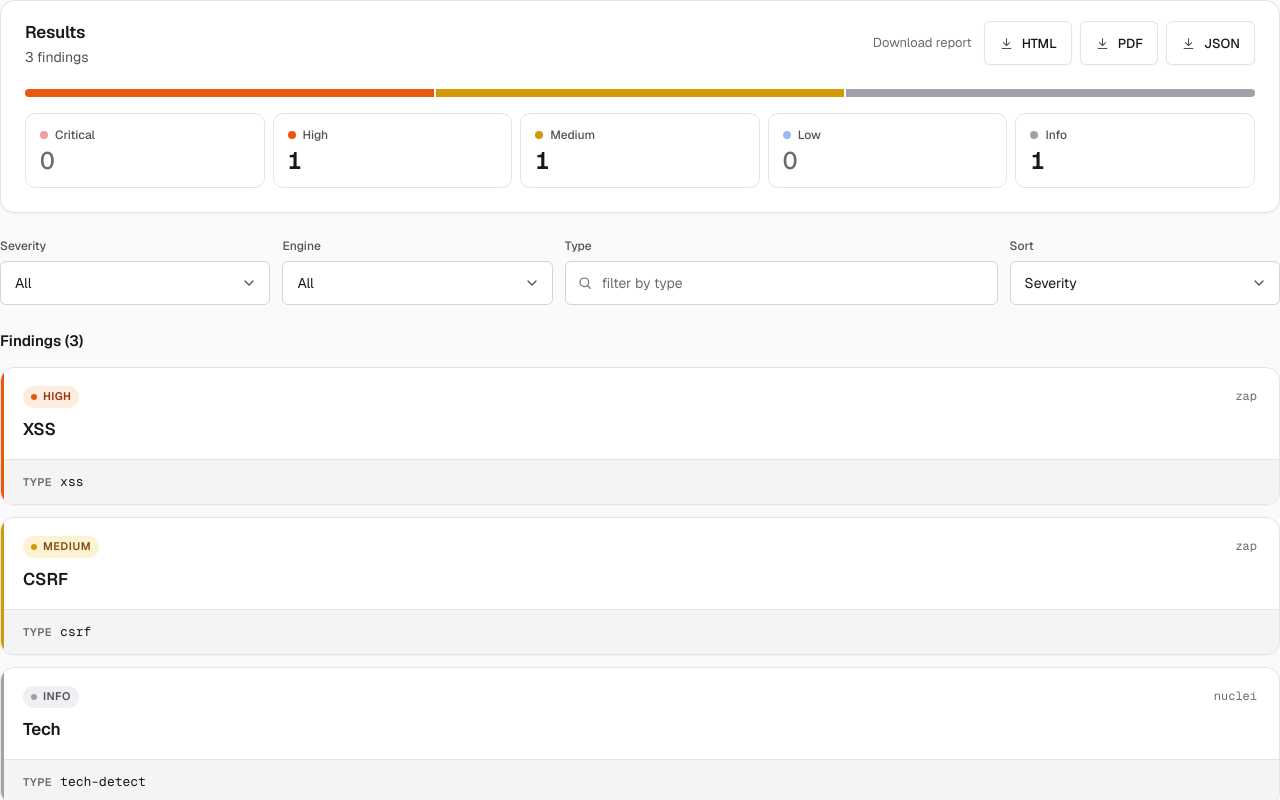
Test: ResultsDashboard › filters findings by severity
This screenshot has width=1280, height=800.
Expected: the heading "Findings (3)" is shown, [0,331,83,350]
Select "high" in the dropdown labelled "Severity" at (135, 283), box [0,261,270,305]
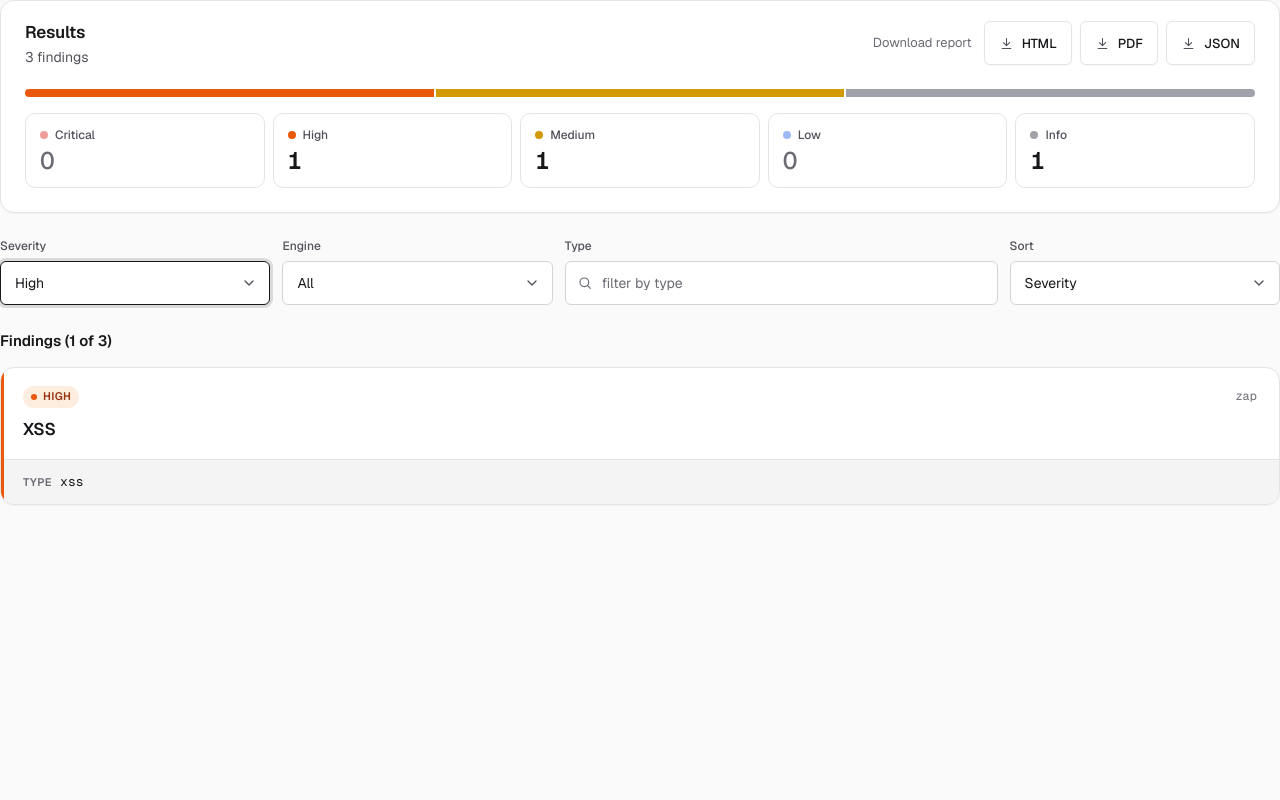
Expected: the heading "XSS" is shown, [23,418,56,440]
Now the heading "Findings (1 of 3)" is shown, box [0,331,112,350]
Now the heading "CSRF" is gone
